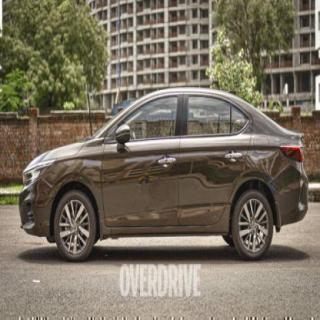Normal_vehicle: (19, 88, 308, 261)
